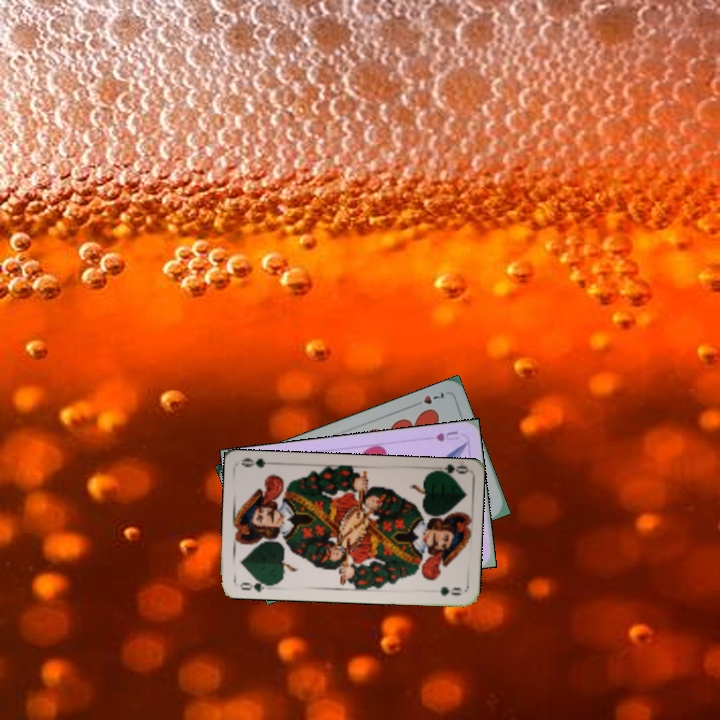GO: (427, 461, 468, 481), (236, 575, 275, 594)
H7: (409, 388, 447, 409)
HU: (432, 427, 461, 444)
